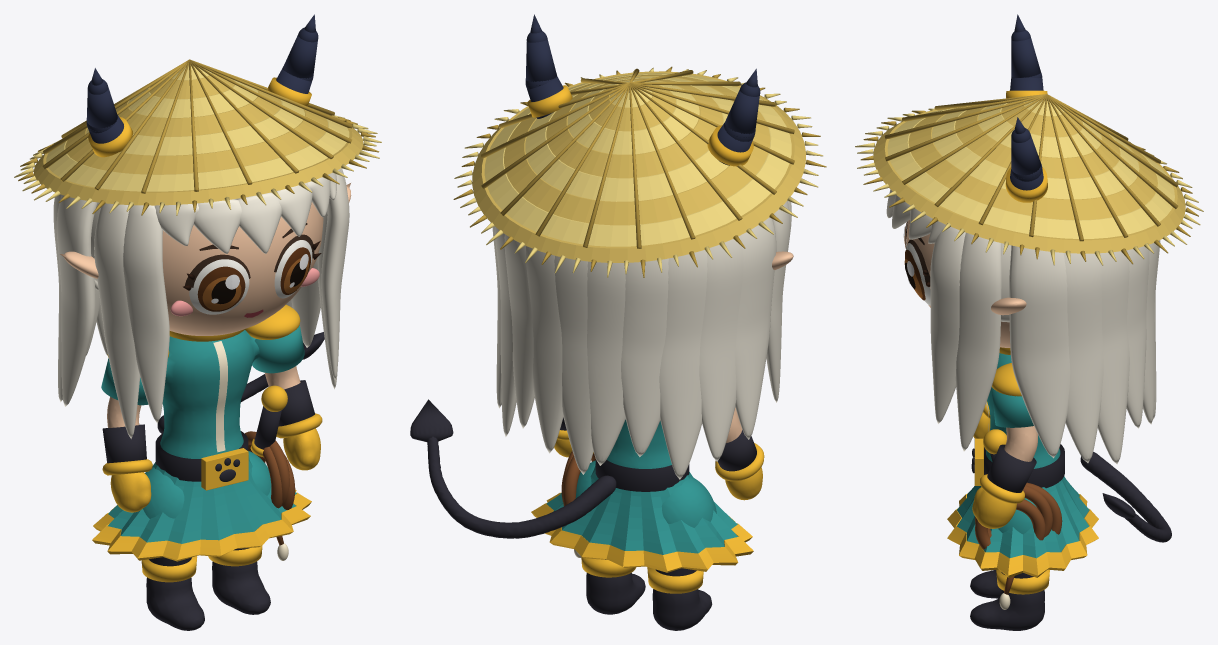
File: feminin-osa.glb
3 renders of one model, left to right at view 1: azimuth 30°, elevation 25°; view 2: azimuth 150°, elevation 25°; view 3: azimuth 270°, elevation 25°, orthographic. The views are drawn at different scales.
Visible parts, largest first — view 1: meches, tunique, crane, jupe, cone, cone_bord, cone.001, jupe_ourlet, cone.002, cone.003, botte, botte.001 (+42 smaller); view 2: meches, cone, cone_bord, cone.001, jupe, cone.002, cone.003, queue, jupe_ourlet, cone.004, botte, botte.001 (+22 smaller); view 3: meches, cone, cone.001, cone_bord, cone.002, jupe, jupe_ourlet, cone.003, queue, botte.001, cone.004, mitaine.001 (+28 smaller).
Boxes of the visible parts, x1=… form: meches: x1=53, y1=168, x2=349, y2=438; tunique: x1=160, y1=330, x2=259, y2=458; crane: x1=162, y1=202, x2=323, y2=335; jupe: x1=108, y1=455, x2=296, y2=543; cone: x1=46, y1=119, x2=349, y2=191; cone_bord: x1=34, y1=115, x2=363, y2=205; cone.001: x1=65, y1=109, x2=328, y2=174; jupe_ourlet: x1=92, y1=489, x2=311, y2=561; cone.002: x1=86, y1=99, x2=304, y2=155; cone.003: x1=115, y1=90, x2=281, y2=136; botte: x1=146, y1=577, x2=204, y2=630; botte.001: x1=212, y1=561, x2=270, y2=614; meches: x1=492, y1=200, x2=791, y2=479; cone: x1=484, y1=73, x2=791, y2=246; cone_bord: x1=472, y1=71, x2=805, y2=262; cone.001: x1=504, y1=74, x2=770, y2=225; jupe: x1=546, y1=464, x2=737, y2=554; cone.002: x1=525, y1=76, x2=733, y2=201; cone.003: x1=546, y1=78, x2=723, y2=178; queue: x1=427, y1=436, x2=616, y2=538; jupe_ourlet: x1=531, y1=492, x2=753, y2=572; cone.004: x1=567, y1=80, x2=699, y2=154; botte: x1=652, y1=589, x2=712, y2=630; botte.001: x1=586, y1=572, x2=645, y2=614; meches: x1=886, y1=189, x2=1160, y2=464; cone: x1=887, y1=107, x2=1174, y2=238; cone.001: x1=908, y1=105, x2=1157, y2=220; cone_bord: x1=873, y1=109, x2=1185, y2=253; cone.002: x1=931, y1=104, x2=1139, y2=199; jupe: x1=957, y1=476, x2=1089, y2=558; jupe_ourlet: x1=947, y1=493, x2=1098, y2=577; cone.003: x1=955, y1=106, x2=1120, y2=178; queue: x1=1080, y1=452, x2=1171, y2=542; botte.001: x1=970, y1=590, x2=1044, y2=630; cone.004: x1=978, y1=103, x2=1101, y2=157; mitaine.001: x1=987, y1=444, x2=1036, y2=492.
Size of the model in its own units: 2.04 by 3.32 by 1.92.
